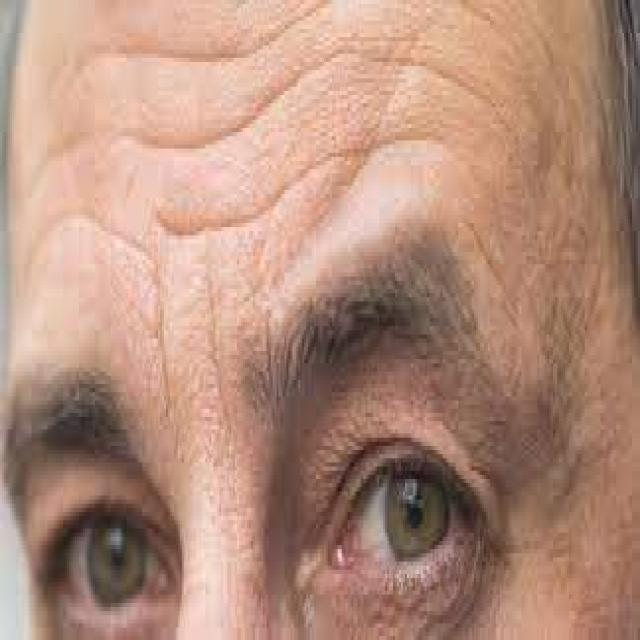Wrinkles: (22, 43, 519, 188), (158, 129, 462, 241), (19, 204, 173, 415), (43, 0, 333, 91)
